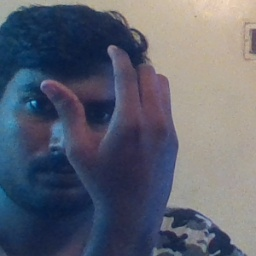U: (40, 48, 180, 196)
